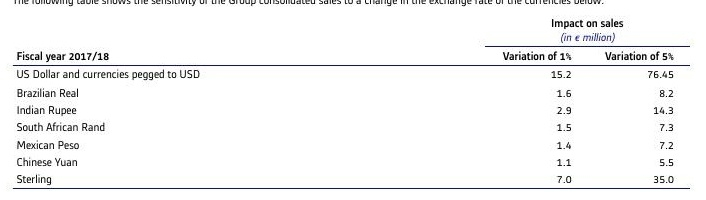table: (0, 0, 706, 200)
